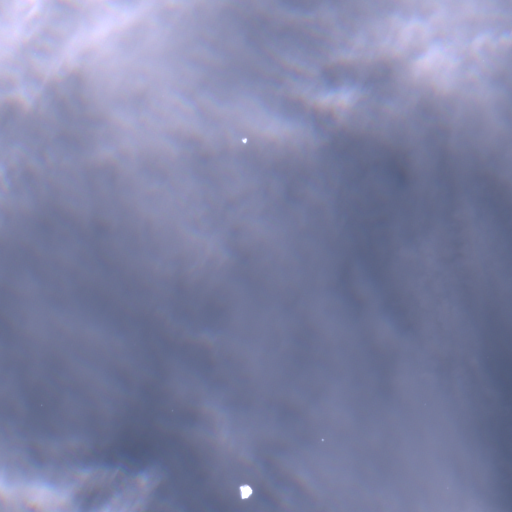Iceberg: (239, 484, 252, 498), (242, 138, 246, 143), (321, 438, 324, 441)
